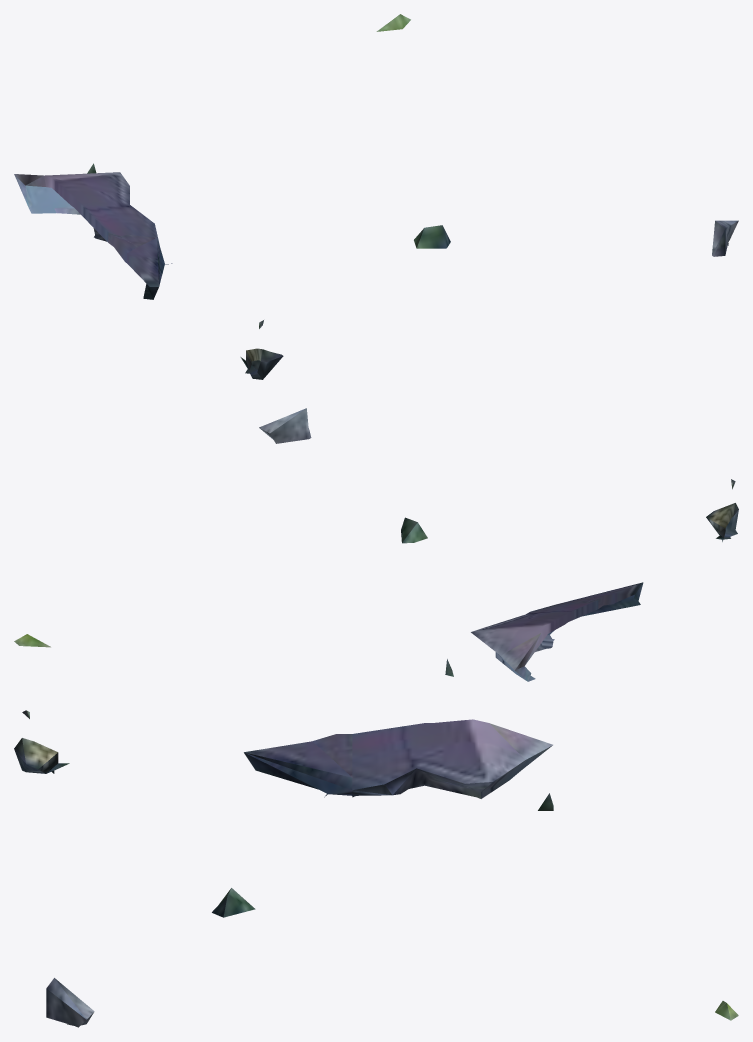
The picture shows the model from 3 angles, top to bottom: view 1: azimuth 30°, elevation 25°; view 2: azimuth 150°, elevation 25°; view 3: azimuth 270°, elevation 25°; orthographic projection. The views are drawn at different scales.
Parts seen in each view (by area): view 1: 30436272704370624407_0; view 2: 30436272704370624407_0; view 3: 30436272704370624407_0.
Part boxes in pixels (x1,y1,x2,y2): 30436272704370624407_0: [14, 14, 738, 379]; 30436272704370624407_0: [14, 408, 738, 681]; 30436272704370624407_0: [14, 710, 738, 1027].
Bounding box in the file's own units: 24.24 × 2.77 × 27.77.
Materials: 1 (1 with a texture image).
